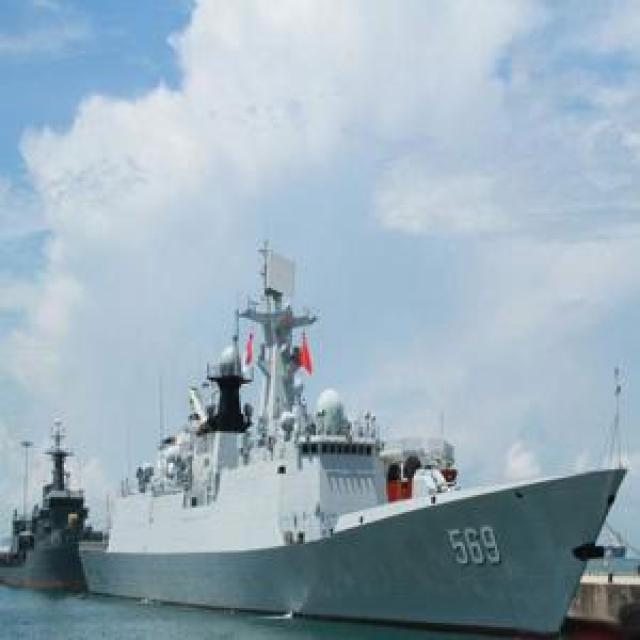navalvessels: (80, 232, 606, 628), (3, 423, 117, 596)
